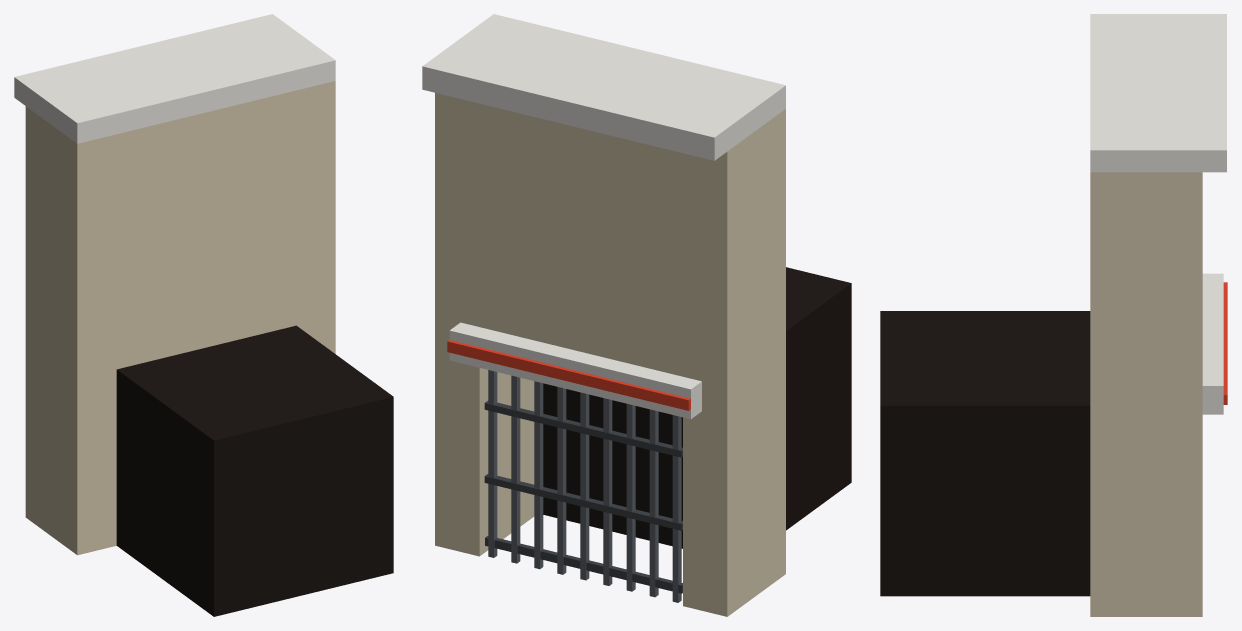
File: SM_CageGate.fbx
The picture shows the model from 3 angles, left to right: view 1: azimuth 30°, elevation 25°; view 2: azimuth 150°, elevation 25°; view 3: azimuth 270°, elevation 25°; orthographic projection. The views are drawn at different scales.
Visible parts, largest first — view 1: SM_CageGate_Wall; view 2: SM_CageGate_Wall, Bars; view 3: SM_CageGate_Wall.
Part boxes in pixels (<box>): SM_CageGate_Wall: <box>14,14,393,616</box>; SM_CageGate_Wall: <box>422,14,851,616</box>; Bars: <box>484,370,682,602</box>; SM_CageGate_Wall: <box>880,14,1227,616</box>.
Size of the model in its own units: 4.6 by 4.96 by 7.35.
